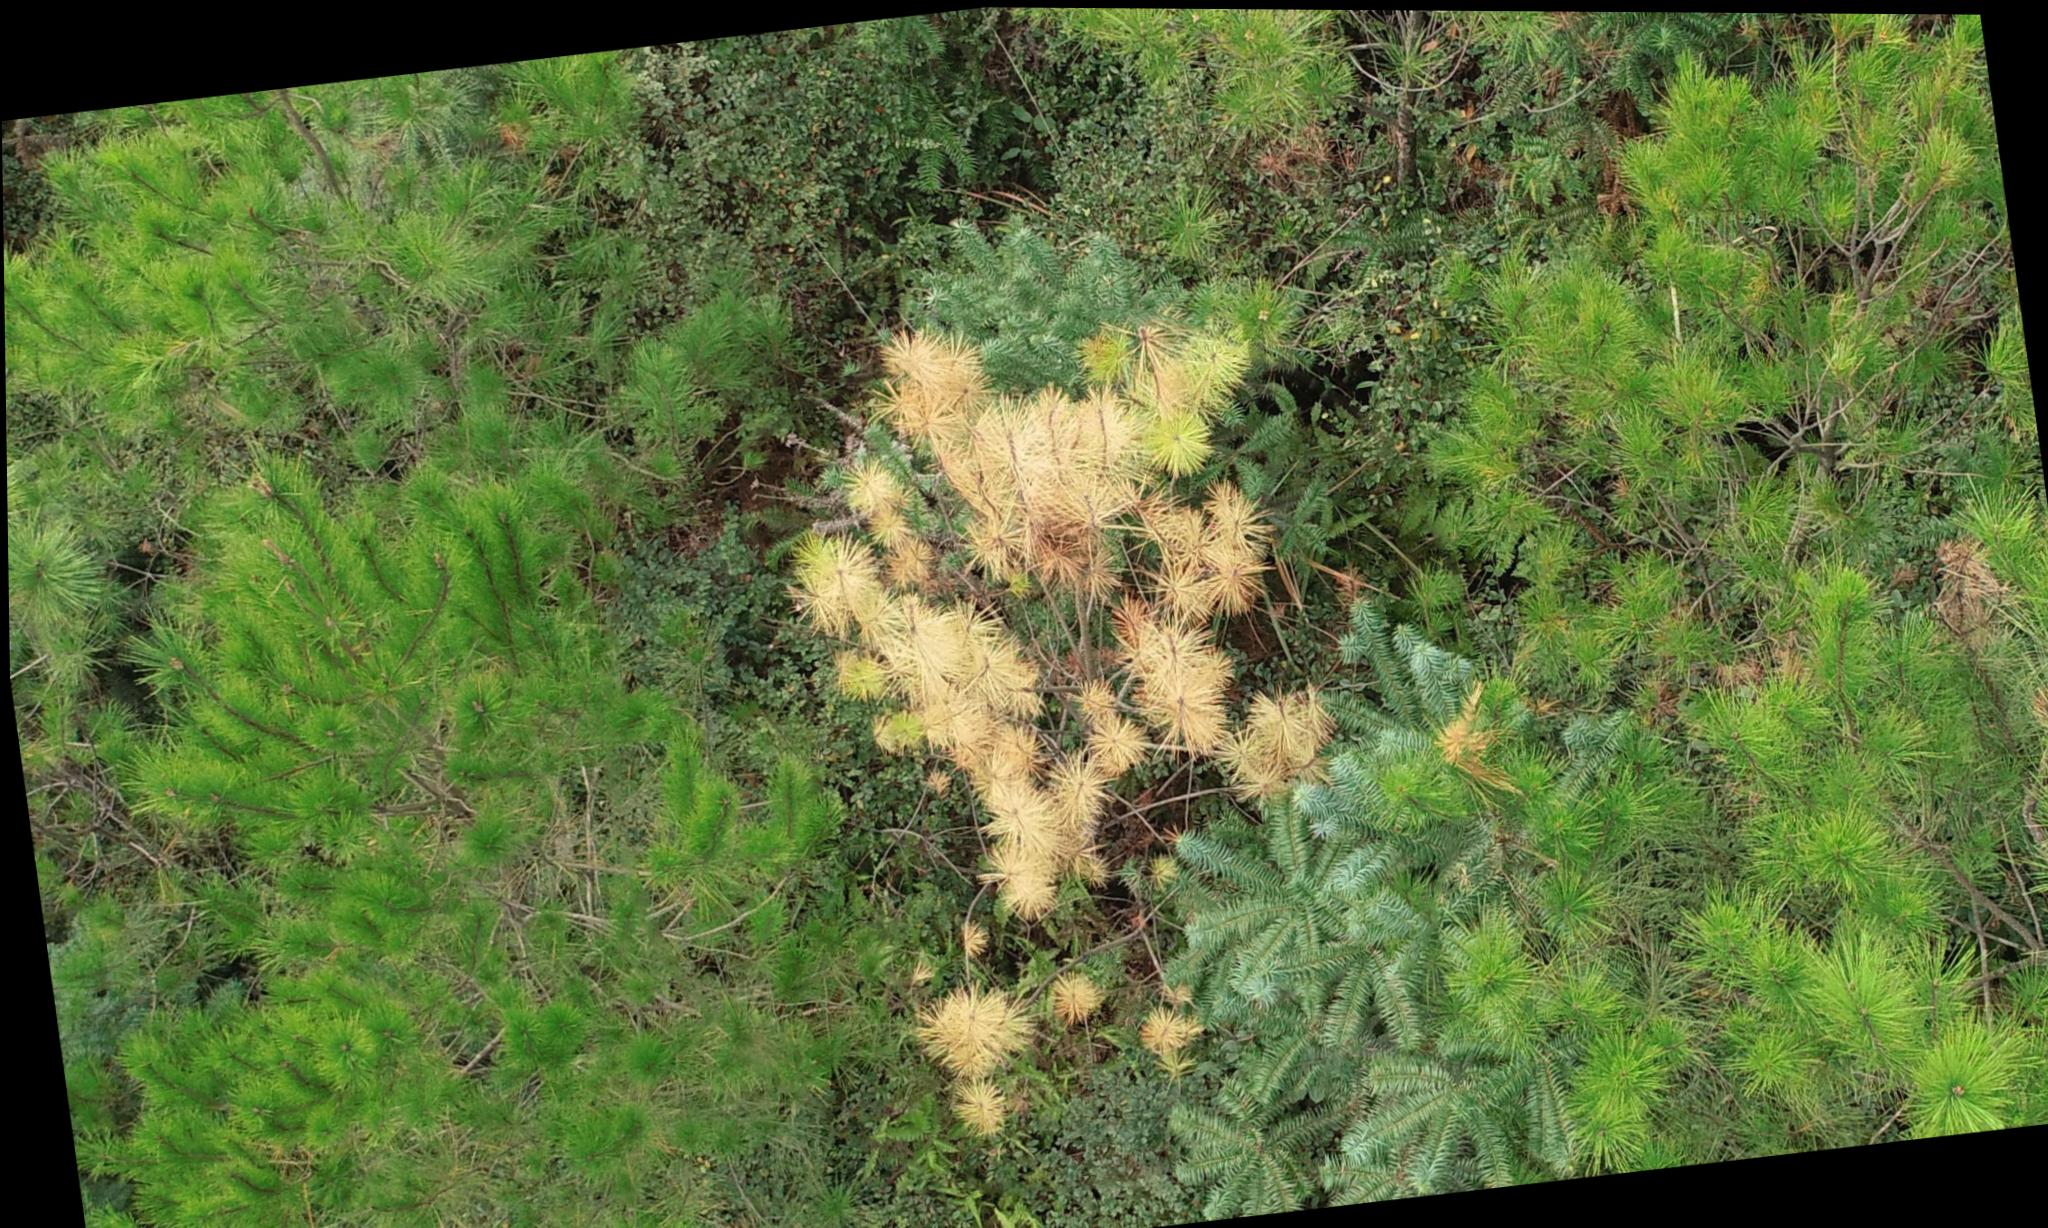heavy: (760, 275, 1376, 1159)
